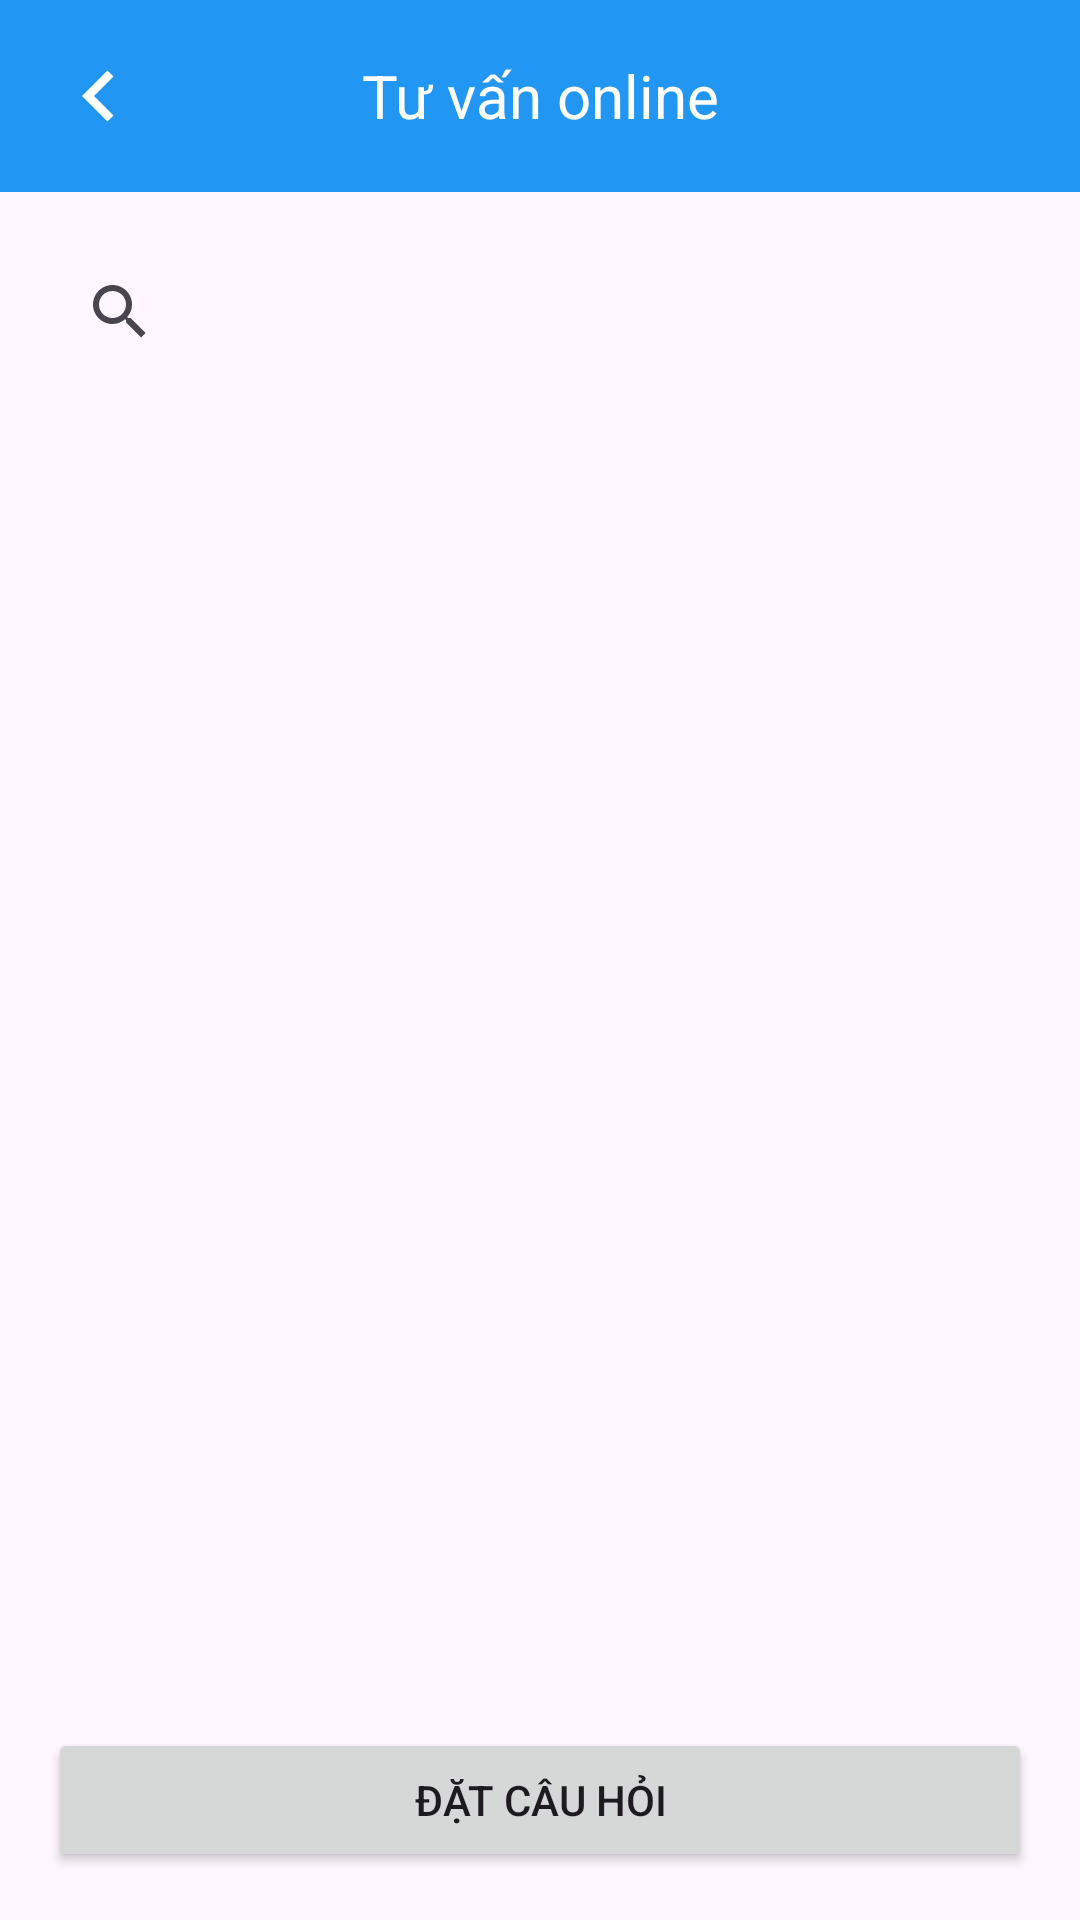

Locate icon controls on the screen. Image size 1080px x 1920px, boxes as BBox(x1, y1, x2, y2).
Quay lại: BBox(82, 70, 114, 122)
